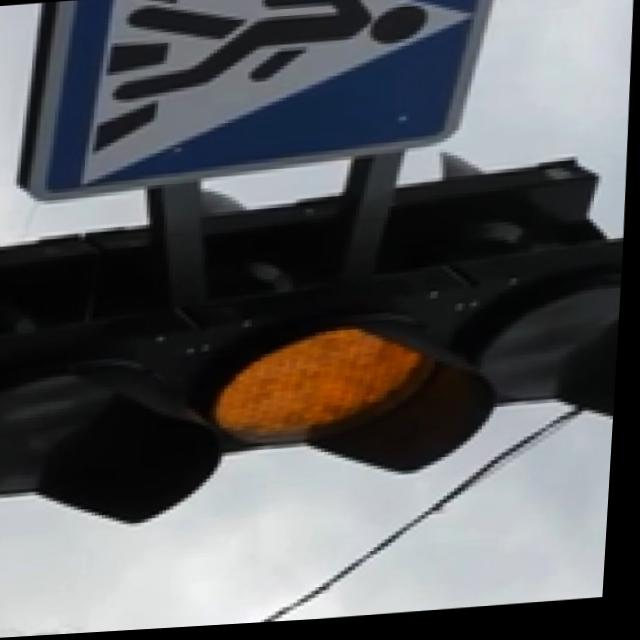yellow_light: (202, 236, 499, 500)
